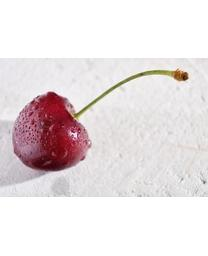cherry: (12, 93, 91, 171)
